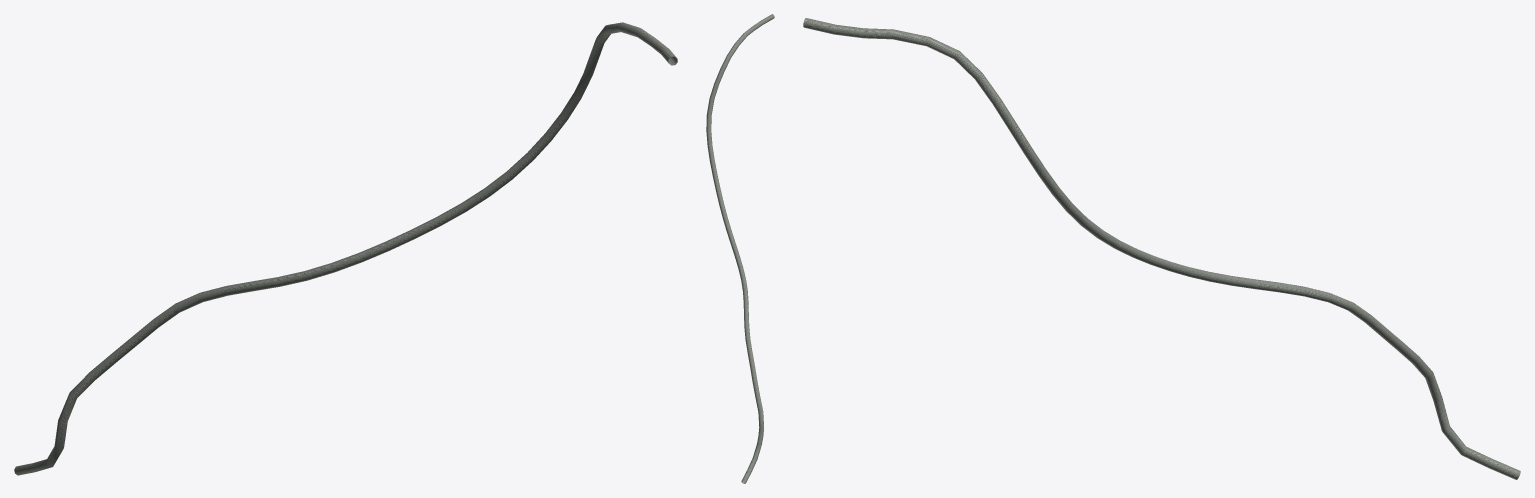
File: microtubule45.fbx
3 views of the same model, side by side, from view 1: azimuth 30°, elevation 25°; view 2: azimuth 150°, elevation 25°; view 3: azimuth 270°, elevation 25° (orthographic). The views are drawn at different scales.
Parts seen in each view (by area): view 1: microtubule45; view 2: microtubule45; view 3: microtubule45.
Part boxes in pixels (x1,y1,x2,y2): microtubule45: (14,22,677,475); microtubule45: (706,14,774,483); microtubule45: (803,18,1520,479).
Bounding box in the file's own units: 5602 × 9998 × 10724.
Materials: 1 (1 with a texture image).
